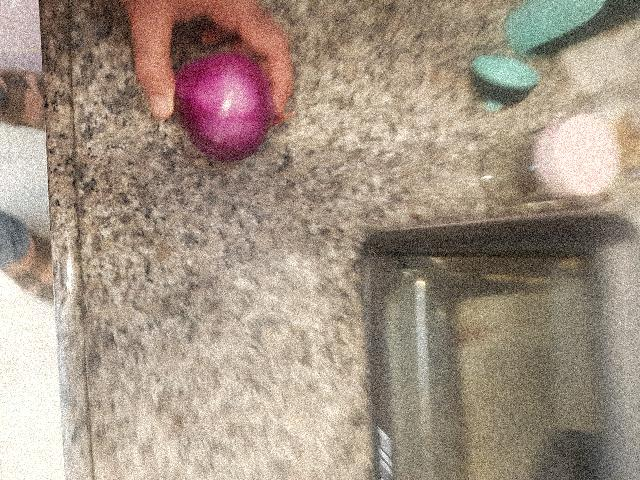onion: (201, 361, 321, 473)
